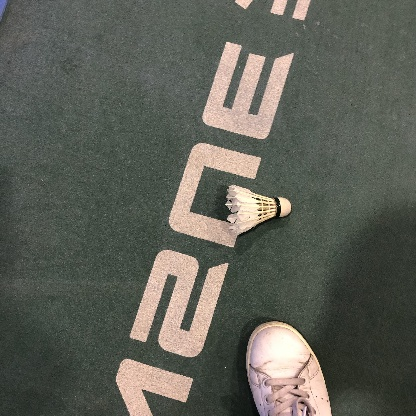ball_single: (225, 185, 291, 235)
